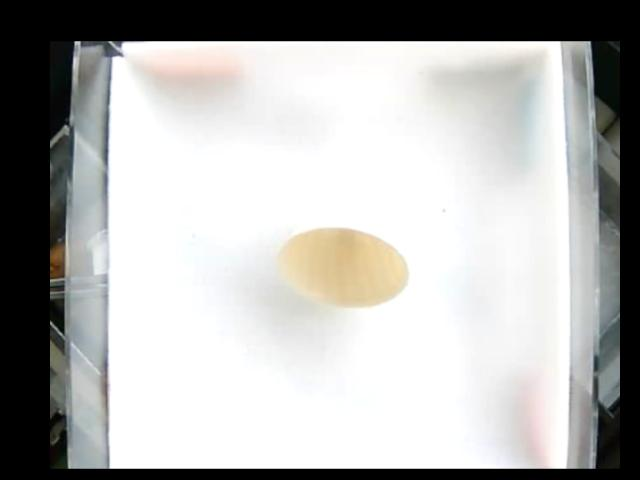Cup: (276, 188, 407, 310)
